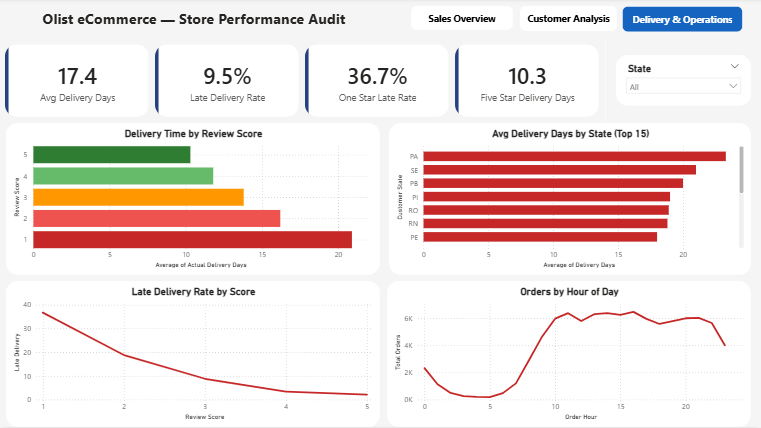

The dashboard page shown, as its layout file describes it:
{"tool":"powerbi","page":{"name":"Delivery & Operations","canvas":[1280,720],"ordinal":2},"visuals":[{"type":"cardVisual","fields":{"Data":["query4_delivery_by_state.Avg Delivery Days","query4_delivery_by_state.Late Delivery Rate %","query5_review_vs_delay.One Star Late Rate","query5_review_vs_delay.Five Star Delivery Days"]},"box":[0,66.6,1019.1,143.1],"z":0},{"type":"textbox","box":[0,13.4,655.1,53.8],"z":1000},{"type":"slicer","title":"Segment","fields":{"Values":["query4_delivery_by_state.customer_state"]},"box":[1036.1,96.4,226.8,85],"z":2000},{"type":"clusteredBarChart","title":"Delivery Time by Review Score","fields":{"Category":["query5_review_vs_delay.review_score"],"Y":["Avg(query5_review_vs_delay.avg_actual_delivery_days)"]},"box":[11.8,210,628.2,255.3],"z":3000},{"type":"lineChart","title":"Late Delivery Rate by Score","fields":{"Category":["query5_review_vs_delay.review_score"],"Y":["Sum(query5_review_vs_delay.pct_delivered_late)"]},"box":[11.8,475.4,628.2,245.2],"z":4000},{"type":"clusteredBarChart","title":"Avg Delivery Days by State (Top 15)","fields":{"Category":["query4_delivery_by_state.customer_state"],"Y":["Avg(query4_delivery_by_state.avg_delivery_days)"]},"box":[655.1,210,608.1,255.3],"z":5000},{"type":"lineChart","title":"Orders by Hour of Day","fields":{"Category":["query9b_orders_by_hour.order_hour"],"Y":["Sum(query9b_orders_by_hour.total_orders)"]},"box":[651.8,475.4,611.4,245.2],"z":6000},{"type":"actionButton","title":"Sales Overview","box":[692.1,13.4,171.3,40.3],"z":6001},{"type":"actionButton","box":[875.2,13.4,162.9,42],"z":6002},{"type":"actionButton","box":[1046.5,13.4,203.3,43.7],"z":6003}]}

Visuals, with their boxes in screenshot pixels (x1, y1, x2, y2), scaled from the page's 1280x720 canvas onto the 761x428 screenshot:
cardVisual - query4_delivery_by_state.Avg Delivery Days x query4_delivery_by_state.Late Delivery Rate %: rect(0, 40, 606, 125)
textbox: rect(0, 8, 389, 40)
"Segment" slicer: rect(616, 57, 751, 108)
"Delivery Time by Review Score" clusteredBarChart: rect(7, 125, 380, 277)
"Late Delivery Rate by Score" lineChart: rect(7, 283, 380, 427)
"Avg Delivery Days by State (Top 15)" clusteredBarChart: rect(389, 125, 751, 277)
"Orders by Hour of Day" lineChart: rect(388, 283, 751, 427)
"Sales Overview" actionButton: rect(411, 8, 513, 32)
actionButton: rect(520, 8, 617, 33)
actionButton: rect(622, 8, 743, 34)
